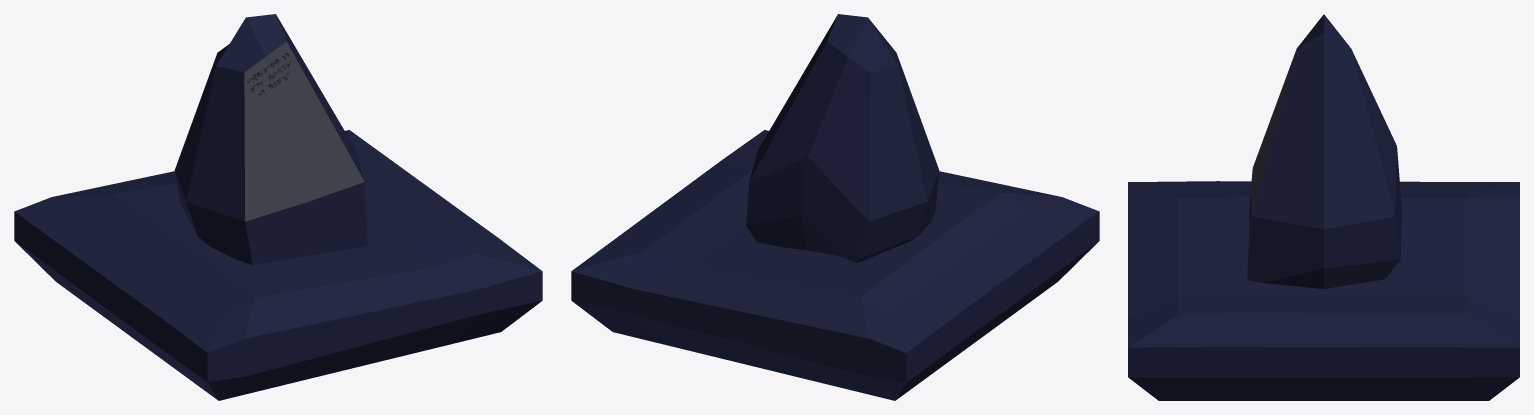
Rendered from model_Memorial Shrine.fbx.
3 views of the same model, side by side, from view 1: azimuth 30°, elevation 25°; view 2: azimuth 150°, elevation 25°; view 3: azimuth 270°, elevation 25° (orthographic).
Parts seen in each view (by area): view 1: Memorial Shrine; view 2: Memorial Shrine; view 3: Memorial Shrine.
Boxes of the visible parts, x1,y1,x2,y2 form: Memorial Shrine: (14,14,542,400); Memorial Shrine: (571,14,1099,400); Memorial Shrine: (1128,14,1519,400).
Bounding box in the file's own units: 706 × 599 × 706.
